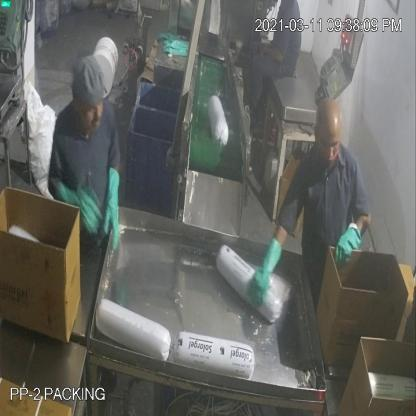glove: (249, 233, 282, 314), (103, 160, 127, 259), (329, 223, 361, 266)
no_glove: (252, 36, 286, 72)
